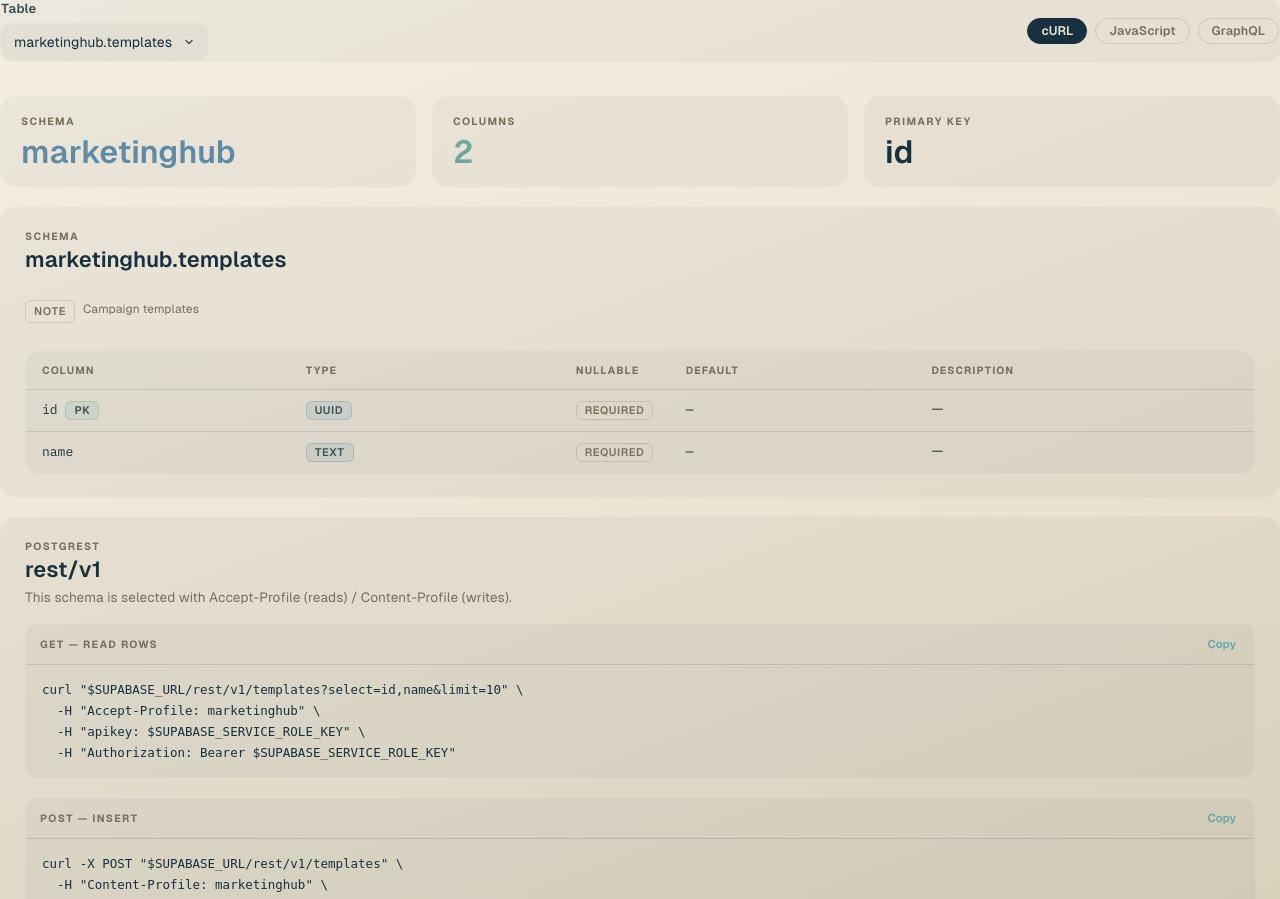
Test: ApiDocsClient › switching the table selector re-renders for the chosen table
Select "public.widgets" in the dropdown labelled "Table" at coordinates (104, 42), box left=1, top=23, right=208, bottom=61
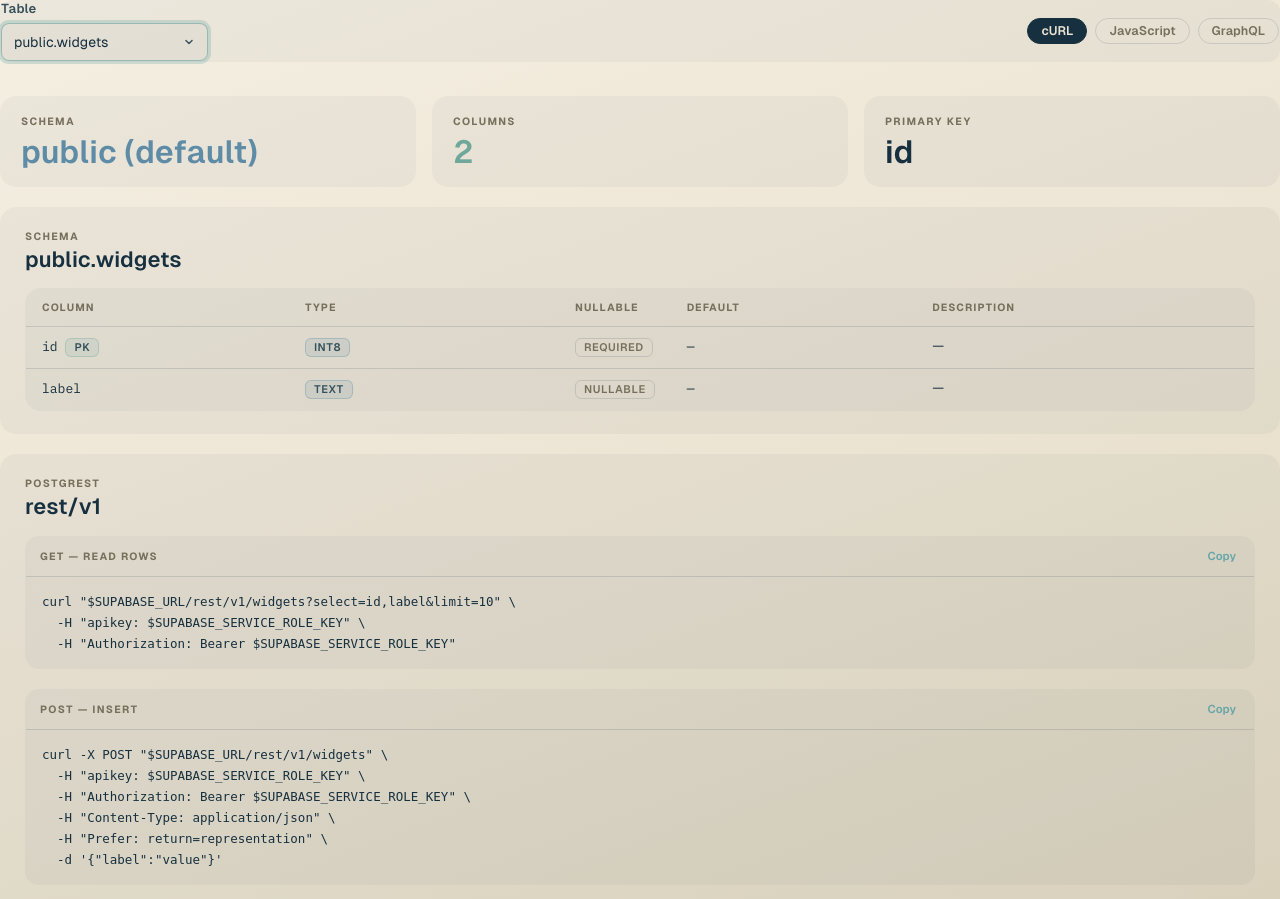
Check: the heading "public.widgets" is shown, box left=25, top=247, right=182, bottom=272
Check: the text "/rest/v1/widgets" is shown, box left=42, top=594, right=516, bottom=651
Check: the text "Accept-Profile" is gone
